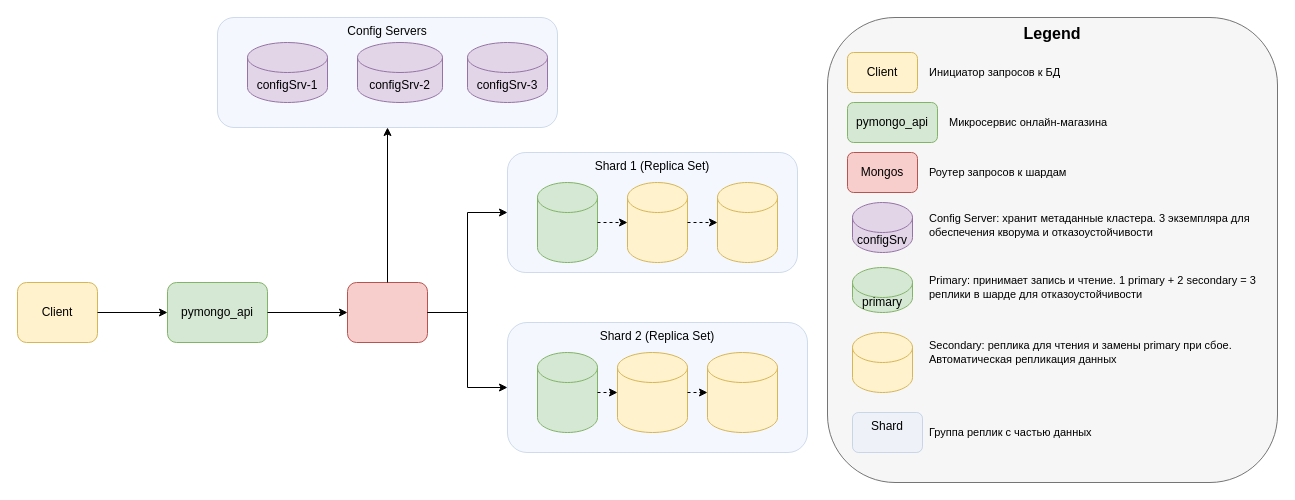
Image size: 1295x500. Some labels were removed from this diagram. The shapes that lost their labels are listed below. From the top down, each one's centre as x and y in pixels, then its label:
At pixel 567 222: "shard1-1 (primary)".
At pixel 657 222: "shard1-2 (secondary)".
At pixel 747 222: "shard1-3 (secondary)".
At pixel 387 312: "Mongos (Router)".
At pixel 882 362: "secondary".
At pixel 567 392: "shard2-1 (primary)".
At pixel 652 392: "shard2-2 (secondary)".
At pixel 742 392: "shard2-3 (secondary)".
